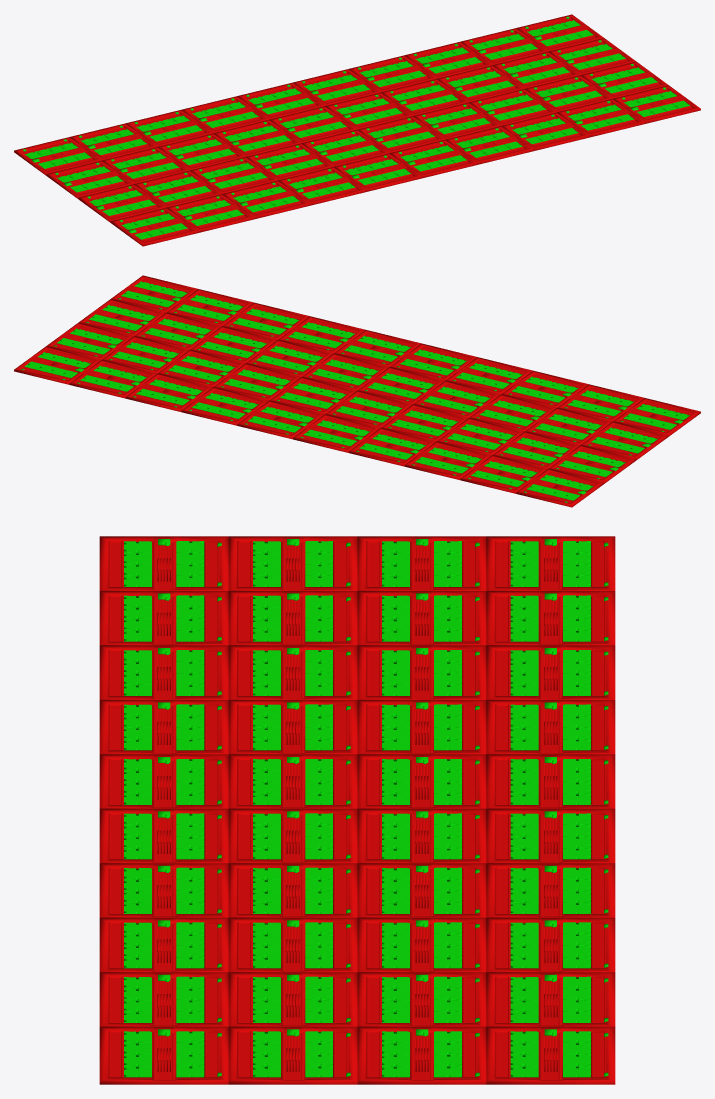
The model's file is SciFi_FloorPanel01_medium_4x10.fbx.
3 views of the same model, one above another, from view 1: azimuth 30°, elevation 25°; view 2: azimuth 150°, elevation 25°; view 3: azimuth 270°, elevation 25° (orthographic). The views are drawn at different scales.
Visible parts, largest first — view 1: SciFi_Floor_Panel01_low; view 2: SciFi_Floor_Panel01_low; view 3: SciFi_Floor_Panel01_low.
Part boxes in pixels (bbox=[...]): SciFi_Floor_Panel01_low: bbox=[14, 14, 700, 246]; SciFi_Floor_Panel01_low: bbox=[14, 275, 700, 507]; SciFi_Floor_Panel01_low: bbox=[99, 536, 615, 1084].
Size of the model in its own units: 2000 by 8.06 by 800.
